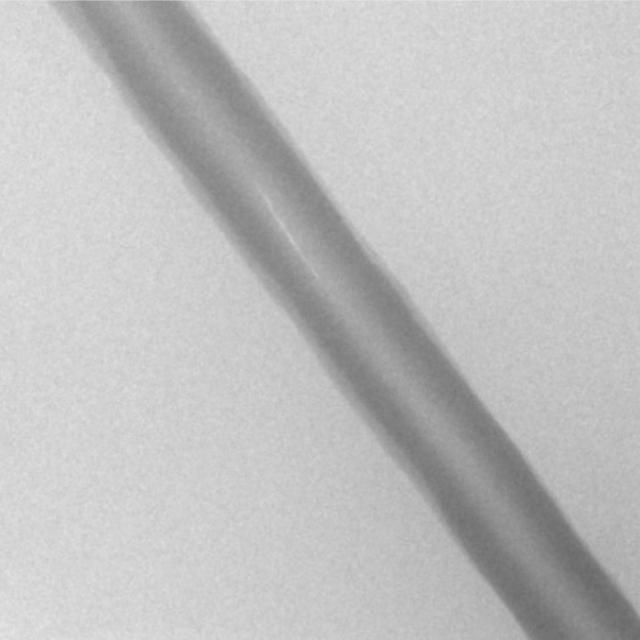crack: (259, 186, 317, 282)
